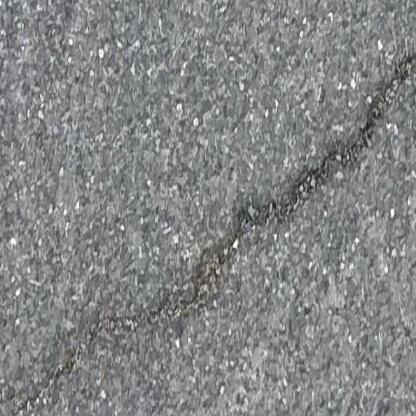Cracks: (145, 54, 416, 321), (16, 313, 140, 415)
